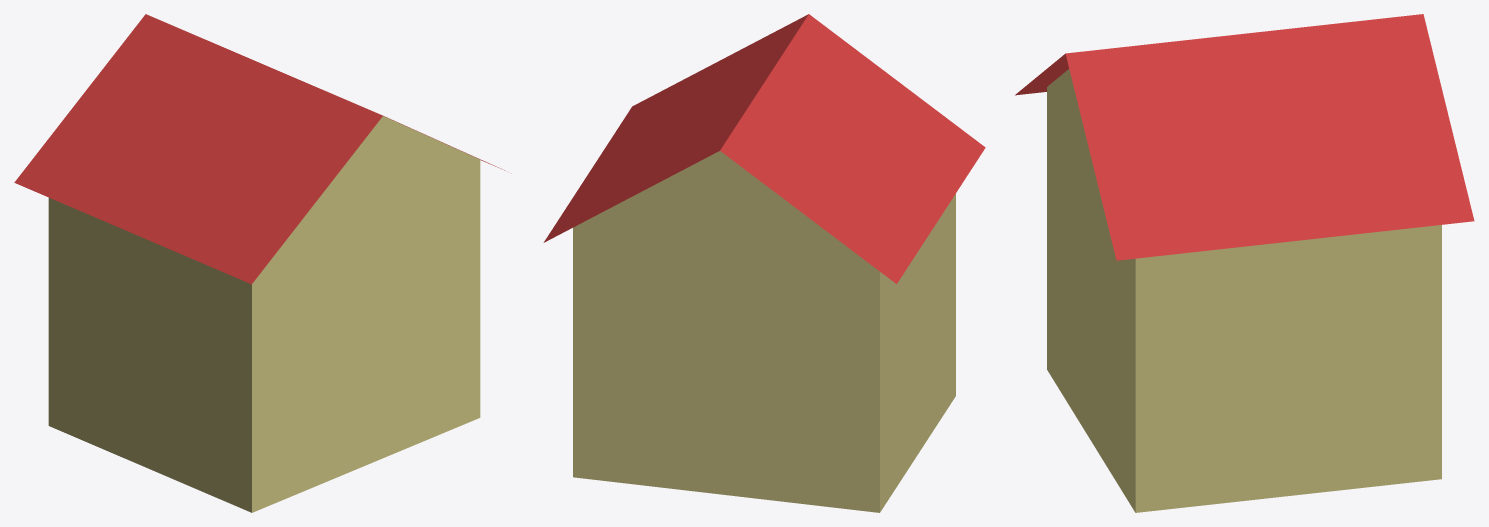
3 views of the same model, side by side, from view 1: azimuth 30°, elevation 25°; view 2: azimuth 150°, elevation 25°; view 3: azimuth 270°, elevation 25° (orthographic). The views are drawn at different scales.
Visible parts, largest first — view 1: group_5, group_3, group_4; view 2: group_5, group_3, group_4; view 3: group_5, group_3, group_4.
Part boxes in pixels (x1,y1,x2,y2): group_5: [48, 116, 480, 512]; group_3: [14, 14, 402, 283]; group_4: [62, 116, 511, 284]; group_5: [573, 151, 955, 512]; group_3: [543, 14, 984, 283]; group_4: [578, 14, 985, 251]; group_5: [1047, 69, 1441, 512]; group_3: [1015, 15, 1474, 260]; group_4: [1019, 14, 1473, 259].
Bounding box in the file's own units: 13.68 × 12.98 × 12.16.
